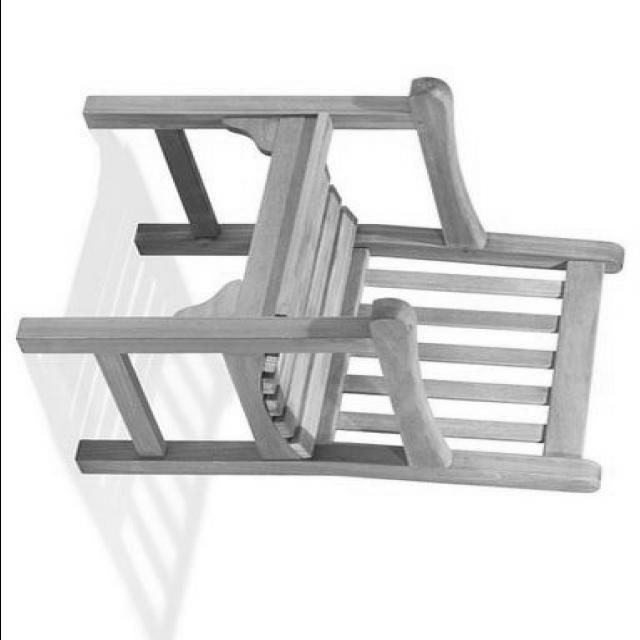chair: (14, 74, 626, 494)
